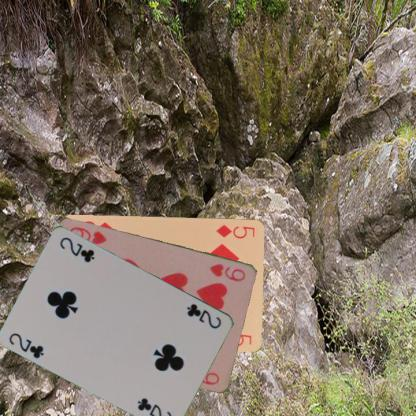2c: (6, 330, 46, 360), (184, 300, 223, 330)
5d: (214, 221, 256, 240)
9h: (207, 260, 247, 282)
